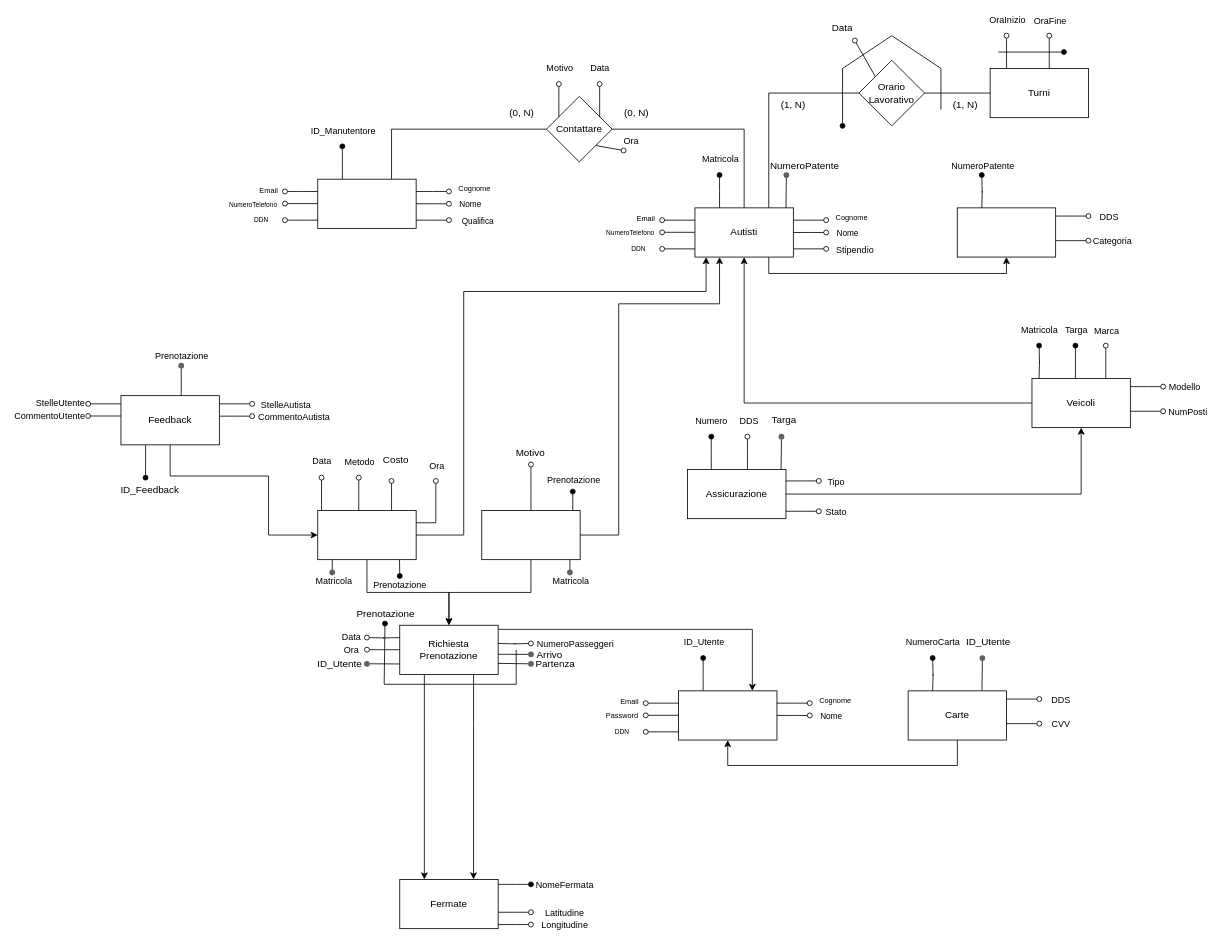
Some shapes in this 1221 by 945 pixel diagram are drawn without their labels. Here are the shapes that lost their labels. From the top down, the centre of each, then its label:
At (x=366, y=203): "Manutentori".
At (x=1006, y=232): "Patenti".
At (x=366, y=535): "Tratte completate".
At (x=530, y=535): "Tratte rifiutate".
At (x=727, y=715): "Utenti".
